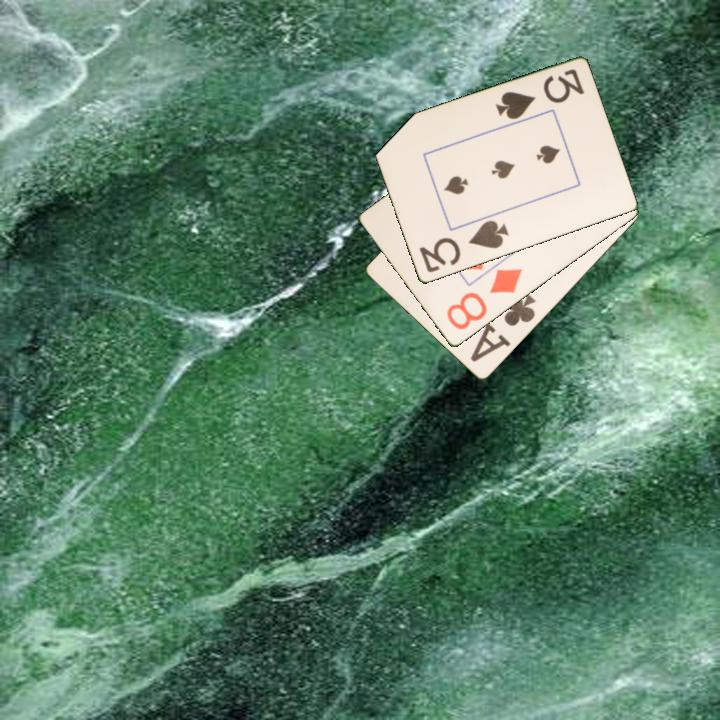3s: (415, 217, 511, 276), (492, 66, 587, 123)
8d: (443, 265, 525, 333)
Ac: (466, 291, 539, 366)
